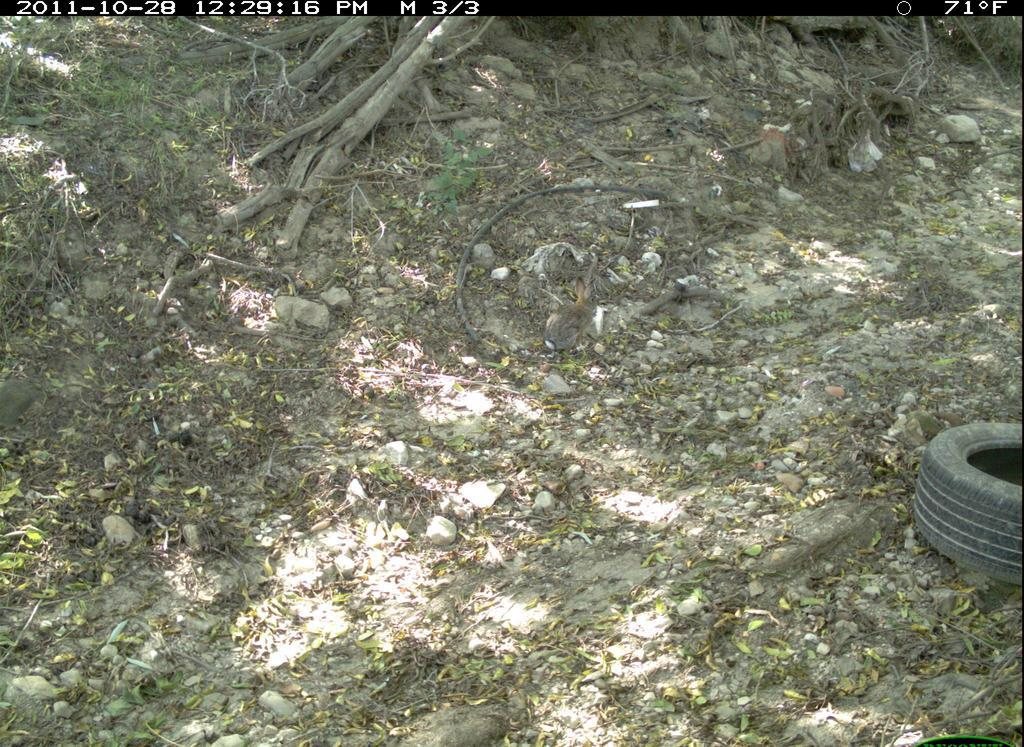rabbit: (537, 274, 607, 360)
